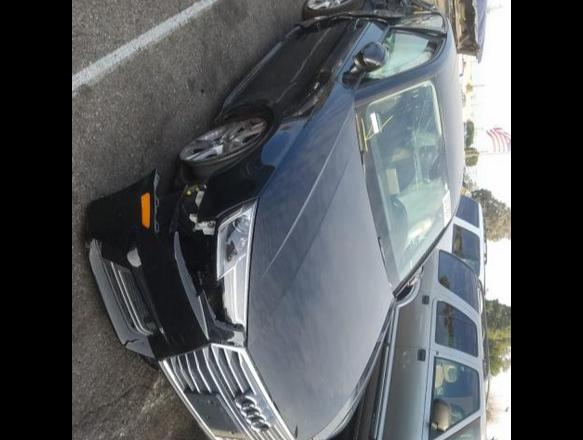Broken part: (86, 170, 246, 358), (172, 104, 268, 186), (214, 196, 258, 326), (298, 0, 446, 38), (304, 0, 361, 14)
Cracked: (364, 76, 452, 282)
Dent: (330, 0, 426, 22)
